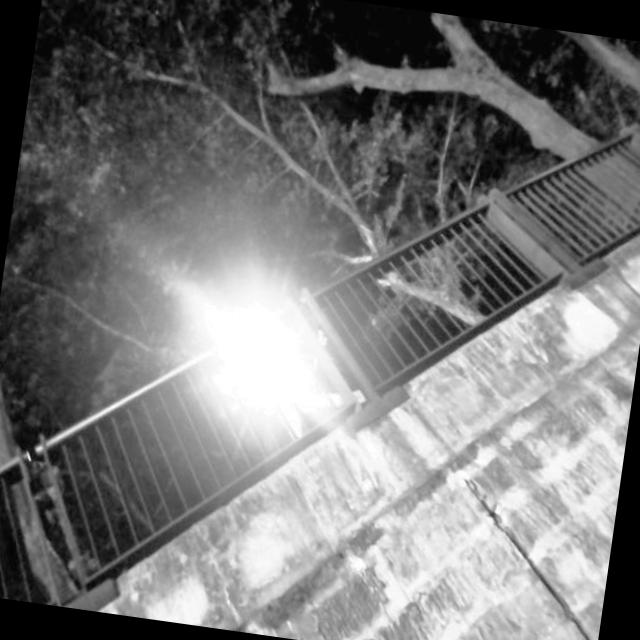Light: (222, 311, 296, 390)
Tree: (250, 0, 640, 226), (0, 328, 115, 609)
